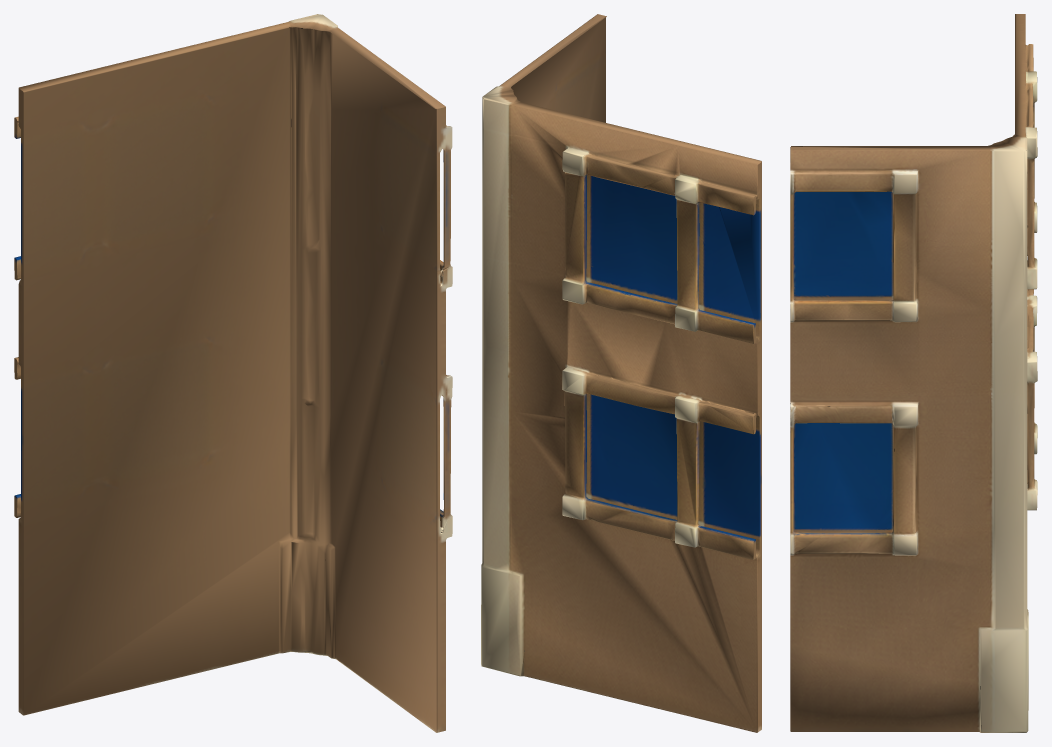
Rendered from 4-ground-floor-back-right.fbx.
The picture shows the model from 3 angles, left to right: view 1: azimuth 30°, elevation 25°; view 2: azimuth 150°, elevation 25°; view 3: azimuth 270°, elevation 25°; orthographic projection. The views are drawn at different scales.
Visible parts, largest first — view 1: ground-floor-back-right; view 2: ground-floor-back-right; view 3: ground-floor-back-right.
Boxes of the visible parts, x1,y1,x2,y2 form: ground-floor-back-right: (14, 14, 452, 732); ground-floor-back-right: (481, 14, 761, 732); ground-floor-back-right: (790, 14, 1037, 732).
Size of the model in its own units: 5136 by 9952 by 3834.
Materials: 1 (1 with a texture image).
